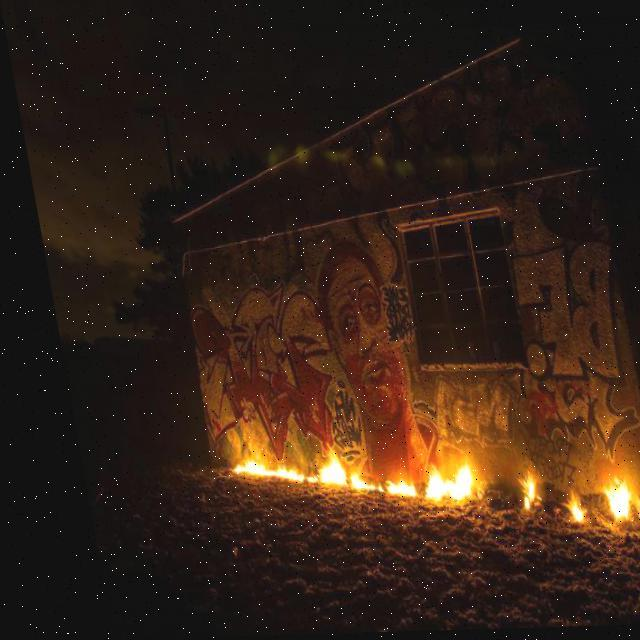Fire: (202, 430, 465, 506), (579, 469, 637, 529), (494, 462, 528, 514), (541, 487, 572, 527)
